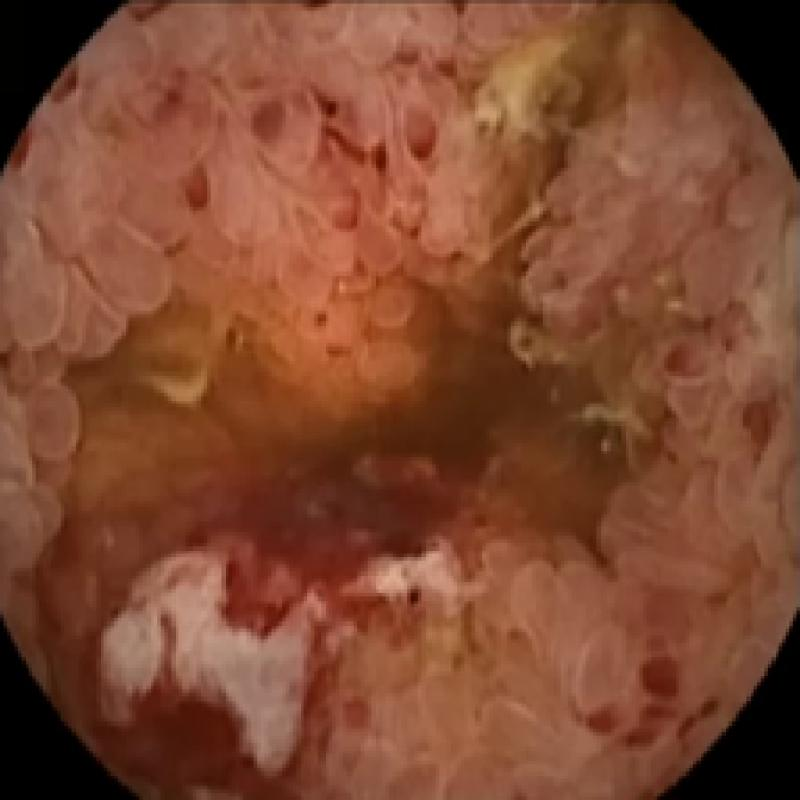bleeding: (220, 469, 456, 645), (123, 663, 337, 800), (578, 640, 719, 754), (289, 103, 407, 193), (181, 153, 213, 215)
